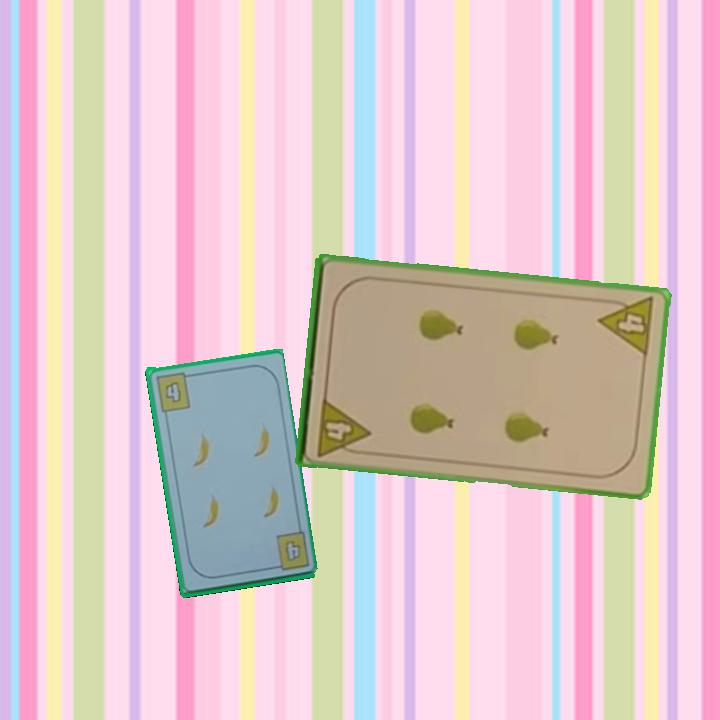4b: (267, 528, 312, 574), (152, 368, 195, 414)
4p: (595, 293, 658, 359), (313, 394, 373, 459)
